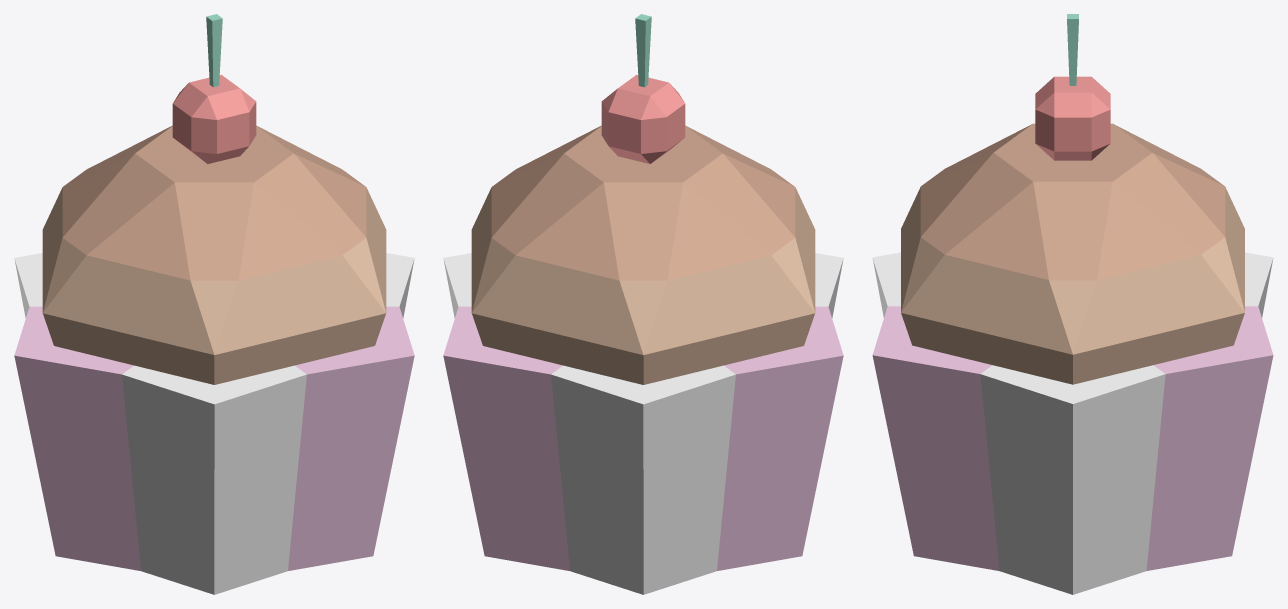
Rendered from pastel.glb.
3 renders of one model, left to right at view 1: azimuth 30°, elevation 25°; view 2: azimuth 150°, elevation 25°; view 3: azimuth 270°, elevation 25°, orthographic.
Parts seen in each view (by area): view 1: cupcake; view 2: cupcake; view 3: cupcake.
Part boxes in pixels (<box>): cupcake: <box>14,14,414,594</box>; cupcake: <box>443,14,843,594</box>; cupcake: <box>872,14,1273,594</box>.
Bounding box in the file's own units: 0.3552 × 0.4238 × 0.3076.
